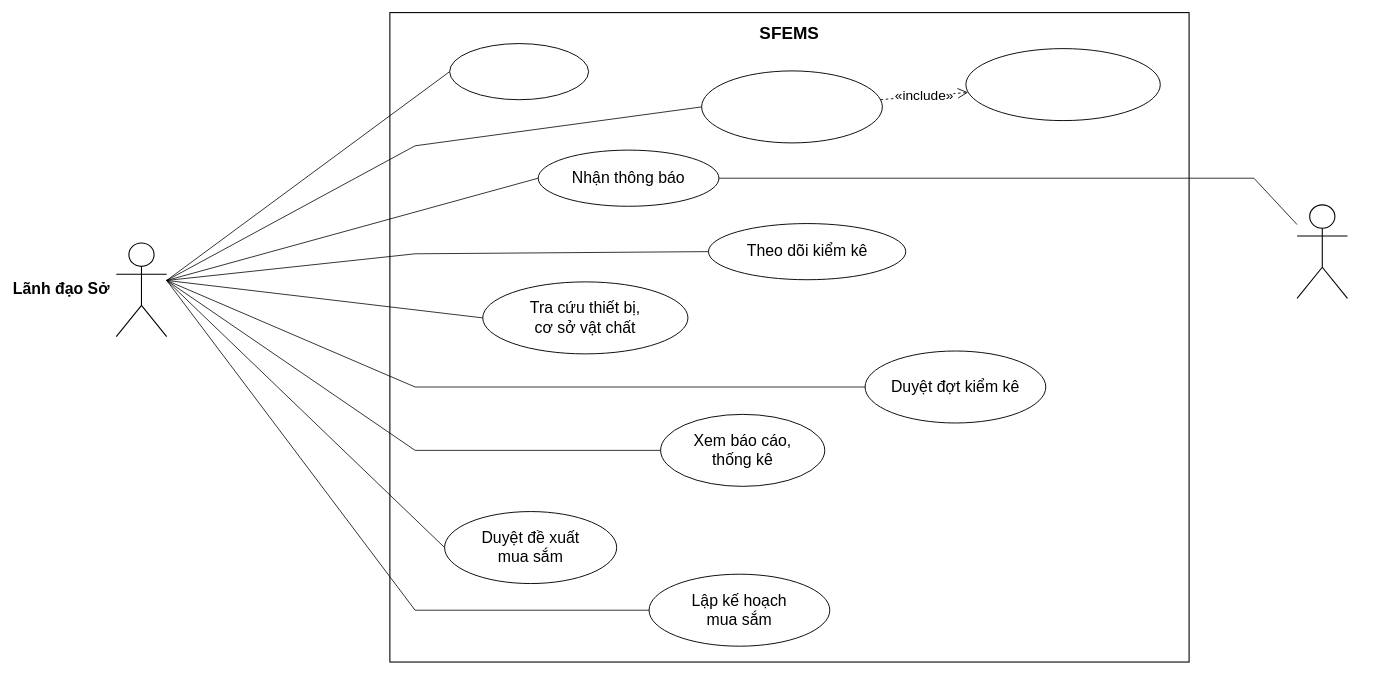
Some shapes in this 1382 by 675 pixel diagram are drawn without their labels. The centre of each missing label's shape, as x and y in pixels:
"Duyệt kế hoạch mua sắm" goes at point 792,106.
"Hoàn tất các đề xuất trong kế hoạch" goes at point 1062,84.
"Máy chủ thư (SMTP)" goes at point 1322,251.
"Đăng nhập" goes at point 519,71.
